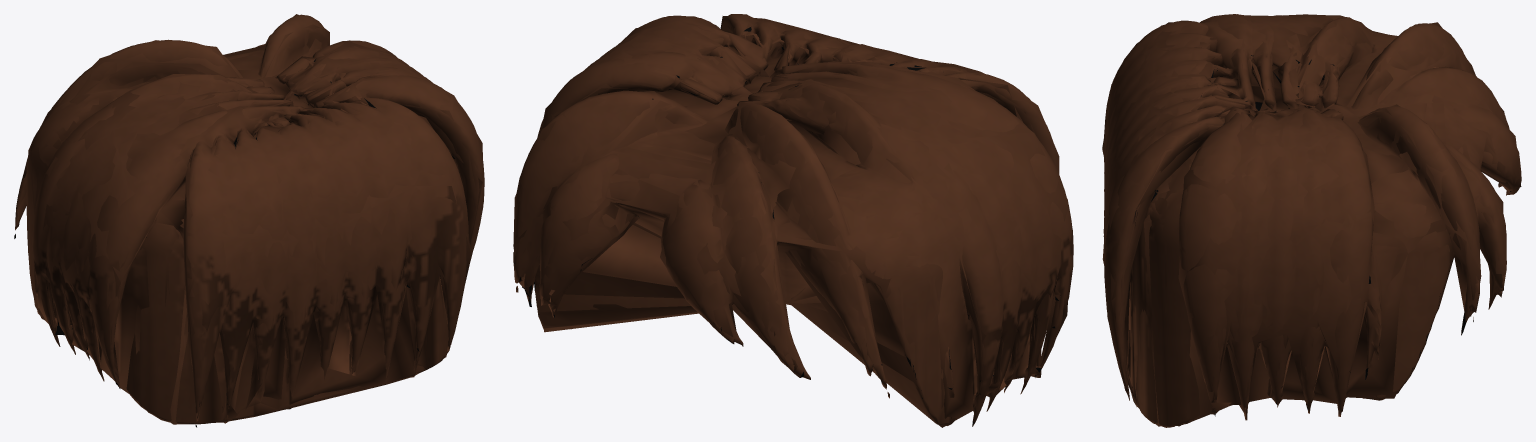
The model's file is floppy.glb.
3 views of the same model, side by side, from view 1: azimuth 30°, elevation 25°; view 2: azimuth 150°, elevation 25°; view 3: azimuth 270°, elevation 25° (orthographic). The views are drawn at different scales.
Parts seen in each view (by area): view 1: near, far, mid; view 2: near, far, mid; view 3: near, far, mid.
Part boxes in pixels (box(x1,y1,x2,y2)): near: box(14, 15, 484, 427); far: box(19, 14, 482, 424); mid: box(15, 14, 484, 424); near: box(513, 14, 1073, 426); far: box(513, 16, 1068, 427); mid: box(513, 14, 1073, 425); near: box(1104, 14, 1521, 427); far: box(1102, 14, 1521, 426); mid: box(1103, 14, 1521, 427).
Size of the model in its own units: 1.19 by 0.8122 by 1.
Materials: 1 (1 with a texture image).
